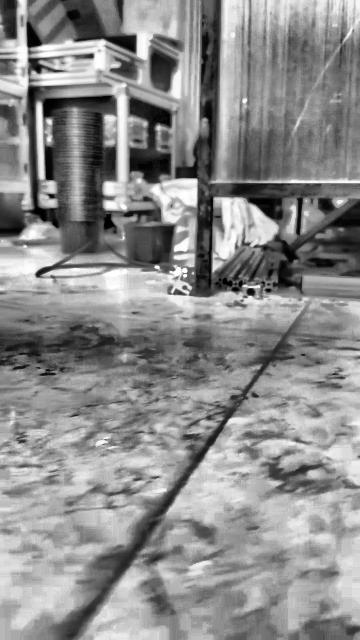pot: (124, 223, 175, 265)
